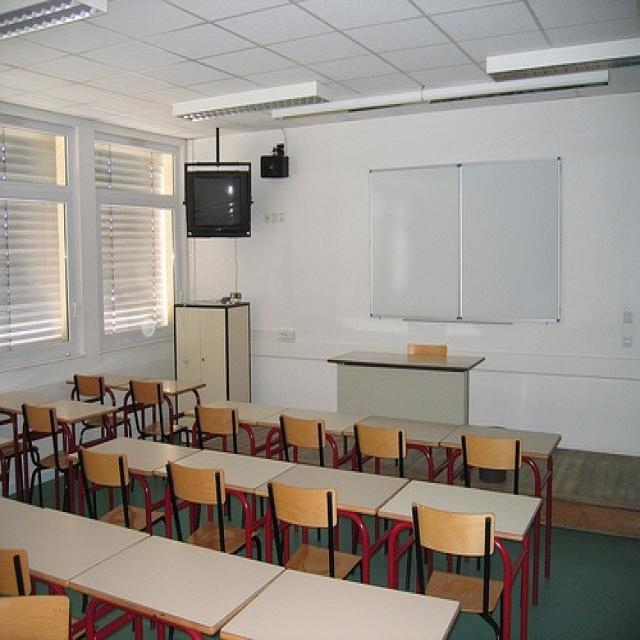chair: (411, 500, 504, 638), (268, 478, 364, 582), (164, 461, 262, 561), (78, 445, 168, 536), (20, 399, 80, 512), (128, 379, 191, 445), (68, 374, 130, 438), (461, 434, 522, 493), (0, 590, 73, 638), (352, 422, 406, 476), (279, 414, 325, 468), (193, 404, 240, 456), (0, 546, 33, 597), (403, 341, 448, 357)
tvmonitor: (183, 169, 252, 239)
